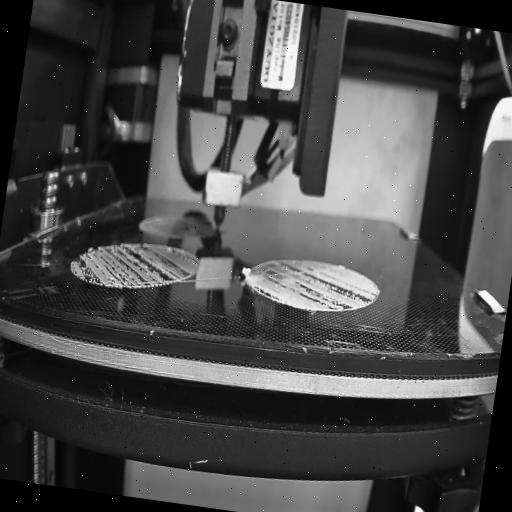under_extrusion: (252, 260, 380, 314), (72, 235, 198, 289)
